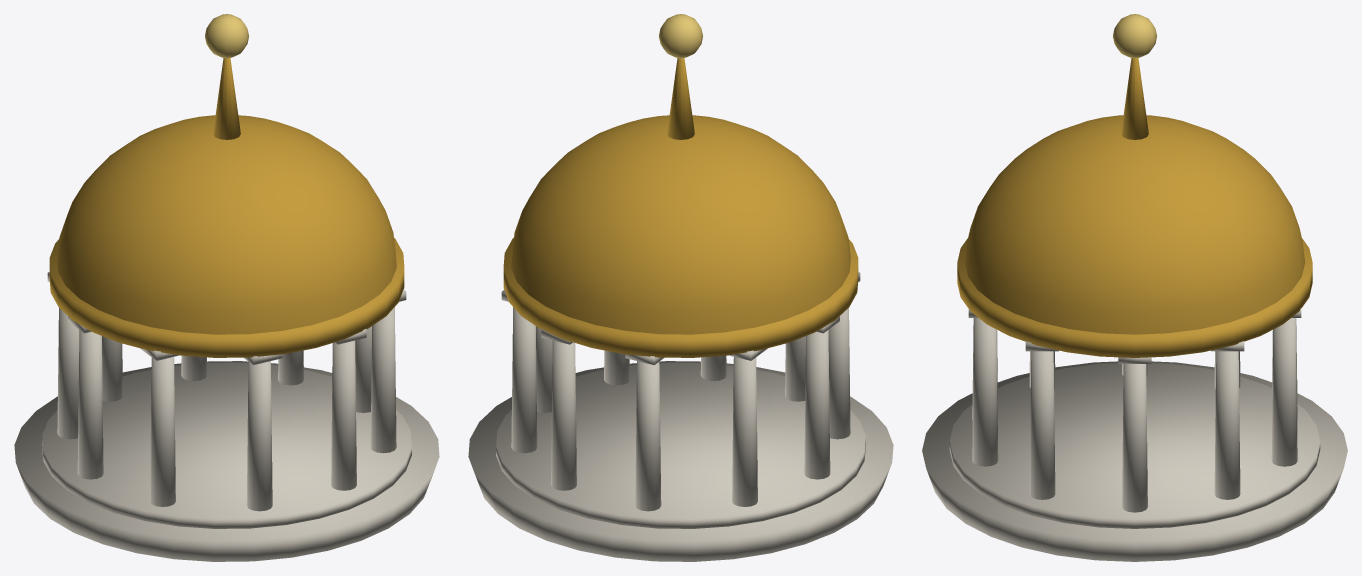
Rendered from dome.glb.
The picture shows the model from 3 angles, left to right: view 1: azimuth 30°, elevation 25°; view 2: azimuth 150°, elevation 25°; view 3: azimuth 270°, elevation 25°; orthographic projection.
Visible parts, largest first — view 1: Dome, Glow; view 2: Dome, Glow; view 3: Dome, Glow.
Boxes of the visible parts, x1,y1,x2,y2 form: Dome: [14, 58, 439, 561]; Glow: [205, 14, 248, 58]; Dome: [468, 58, 893, 561]; Glow: [659, 14, 702, 58]; Dome: [922, 58, 1347, 561]; Glow: [1113, 14, 1156, 58].
Size of the model in its own units: 23 by 27.4 by 23.
